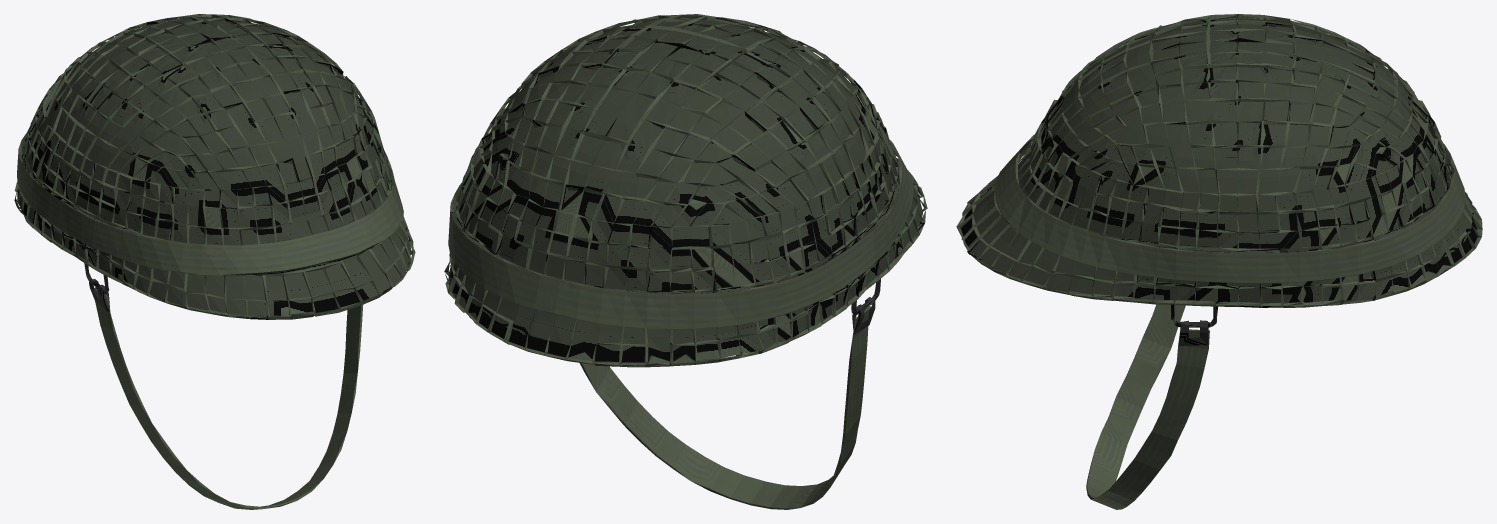
Rendered from mhw_mrgreaterthan_m1_helmet.glb.
3 views of the same model, side by side, from view 1: azimuth 30°, elevation 25°; view 2: azimuth 150°, elevation 25°; view 3: azimuth 270°, elevation 25° (orthographic). The views are drawn at different scales.
Visible parts, largest first — view 1: mhw_mrgreaterthan_m1_helmet; view 2: mhw_mrgreaterthan_m1_helmet; view 3: mhw_mrgreaterthan_m1_helmet.
Part boxes in pixels (x1,y1,x2,y2): mhw_mrgreaterthan_m1_helmet: (14,14,415,509); mhw_mrgreaterthan_m1_helmet: (444,14,927,509); mhw_mrgreaterthan_m1_helmet: (956,14,1482,509).
Size of the model in its own units: 0.1984 by 0.2635 by 0.2727.
Materials: 1 (1 with a texture image).
